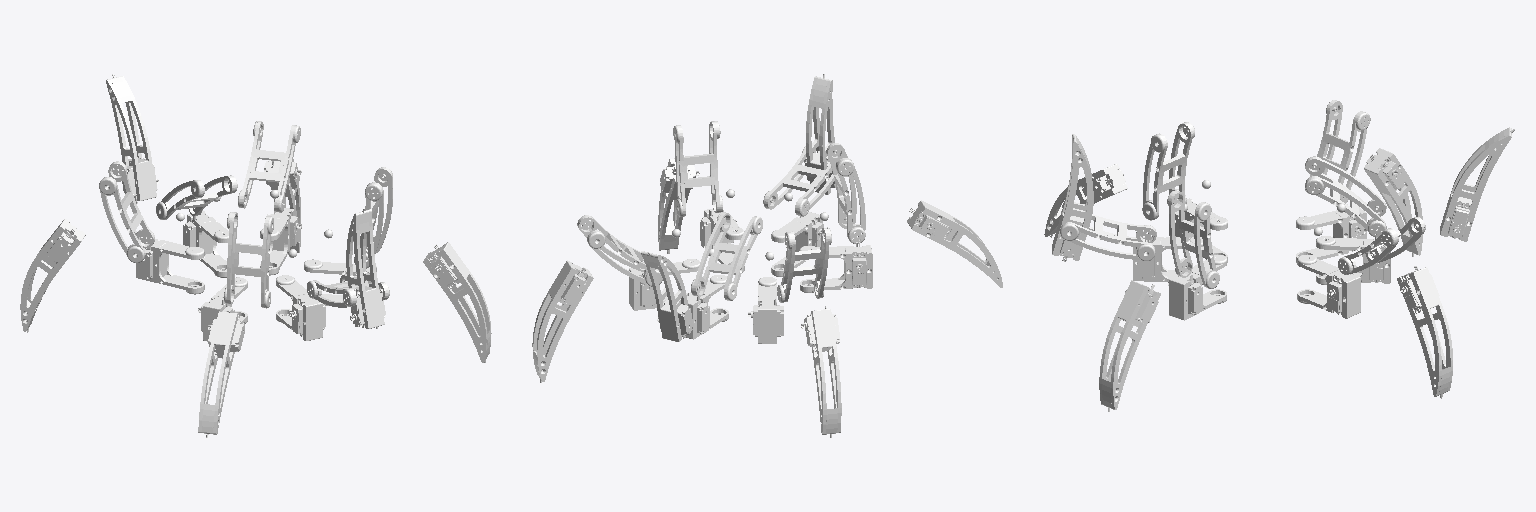
--- What the picture shows (computed from the rendered views, not written in the file) ---
The picture shows the robot from 3 angles, left to right: view 1: azimuth 30°, elevation 25°; view 2: azimuth 150°, elevation 25°; view 3: azimuth 270°, elevation 25°; orthographic projection.
Model Hexapod with 25 links and 24 joints (18 revolute, 6 fixed), rooted at base_link, posed every joint at zero.
Visible links, largest first — view 1: front_right_tibia_link, middle_left_tibia_link, middle_right_tibia_link, rear_right_tibia_link, rear_left_tibia_link, rear_left_femur_link, rear_right_femur_link, front_left_femur_link, rear_left_coxa_link, middle_right_coxa_link, middle_left_coxa_link, middle_left_femur_link (+6 smaller); view 2: front_left_tibia_link, rear_left_tibia_link, rear_right_tibia_link, middle_left_femur_link, middle_left_tibia_link, middle_right_tibia_link, rear_right_femur_link, front_right_femur_link, rear_right_coxa_link, front_left_femur_link, rear_left_femur_link, middle_right_femur_link (+6 smaller); view 3: front_right_tibia_link, front_left_tibia_link, middle_left_tibia_link, front_right_femur_link, rear_left_tibia_link, middle_left_femur_link, rear_right_femur_link, front_left_coxa_link, middle_right_femur_link, middle_right_tibia_link, rear_left_femur_link, front_right_coxa_link (+6 smaller).
Link boxes in pixels (bbox=[...]): front_right_tibia_link: bbox=[423, 242, 491, 362]; middle_left_tibia_link: bbox=[106, 74, 158, 203]; middle_right_tibia_link: bbox=[346, 208, 385, 328]; rear_right_tibia_link: bbox=[198, 311, 244, 437]; rear_left_tibia_link: bbox=[20, 219, 85, 332]; rear_left_femur_link: bbox=[99, 161, 154, 262]; rear_right_femur_link: bbox=[224, 212, 273, 308]; front_left_femur_link: bbox=[238, 121, 300, 212]; rear_left_coxa_link: bbox=[136, 237, 204, 294]; middle_right_coxa_link: bbox=[276, 275, 325, 340]; middle_left_coxa_link: bbox=[183, 211, 228, 277]; middle_left_femur_link: bbox=[156, 175, 237, 219]; front_left_tibia_link: bbox=[532, 260, 593, 382]; rear_left_tibia_link: bbox=[801, 306, 841, 437]; rear_right_tibia_link: bbox=[907, 200, 1002, 287]; middle_left_femur_link: bbox=[691, 212, 762, 300]; middle_left_tibia_link: bbox=[641, 251, 693, 341]; middle_right_tibia_link: bbox=[805, 74, 835, 194]; rear_right_femur_link: bbox=[826, 143, 865, 243]; front_right_femur_link: bbox=[673, 121, 722, 216]; rear_right_coxa_link: bbox=[800, 242, 872, 292]; front_left_femur_link: bbox=[577, 215, 662, 286]; rear_left_femur_link: bbox=[777, 227, 831, 302]; middle_right_femur_link: bbox=[763, 146, 847, 216]; front_right_tibia_link: bbox=[1099, 280, 1160, 411]; front_left_tibia_link: bbox=[1397, 266, 1452, 398]; middle_left_tibia_link: bbox=[1440, 127, 1514, 241]; front_right_femur_link: bbox=[1167, 190, 1219, 288]; rear_left_tibia_link: bbox=[1364, 148, 1422, 256]; middle_left_femur_link: bbox=[1305, 156, 1386, 237]; rear_right_femur_link: bbox=[1142, 122, 1194, 220]; front_left_coxa_link: bbox=[1297, 254, 1360, 318]; middle_right_femur_link: bbox=[1060, 209, 1156, 260]; middle_right_tibia_link: bbox=[1052, 134, 1093, 261]; rear_left_femur_link: bbox=[1305, 100, 1370, 203]; front_right_coxa_link: bbox=[1168, 254, 1226, 320].
Size in the robot's own frame: 0.5301 by 0.6403 by 0.317 metres.
24 mesh visuals loaded from 25 distinct referenced files (24 binary STL); not drawn: 1 (reference not matched to a file when rendering).

URDF robot description (Hexapod):
<?xml version="1.0" encoding="utf-8"?>
<!-- This URDF was automatically created by SolidWorks to URDF Exporter! Originally created by Stephen Brawner ([email redacted]) 
     Commit Version: 1.6.0-4-g7f85cfe  Build Version: 1.6.7995.38578
     For more information, please see http://wiki.ros.org/sw_urdf_exporter -->
<robot
  name="Hexapod">
  <link
    name="base_link">
    <inertial>
      <origin
        xyz="-6.18193581229152E-06 2.39717543056817E-06 0.0161961871063663"
        rpy="0 0 0" />
      <mass
        value="0.786295694888978" />
      <inertia
        ixx="0.00078778573537143"
        ixy="8.85654590300931E-09"
        ixz="2.40443432739839E-08"
        iyy="0.00086497615387617"
        iyz="1.37840846691492E-08"
        izz="0.00156986494830974" />
    </inertial>
    <visual>
      <origin
        xyz="0 0 0"
        rpy="0 0 0" />
      <geometry>
        <mesh
          filename="package://robot_description/meshes/base_link.STL" />
      </geometry>
      <material
        name="">
        <color
          rgba="1 1 1 1" />
      </material>
    </visual>
    <collision>
      <origin
        xyz="0 0 0"
        rpy="0 0 0" />
      <geometry>
        <mesh
          filename="package://robot_description/meshes/base_link.STL" />
      </geometry>
    </collision>
  </link>
  <link
    name="front_left_coxa_link">
    <inertial>
      <origin
        xyz="0.042272 0.041896 0.00059547"
        rpy="0 0 0" />
      <mass
        value="0.086281" />
      <inertia
        ixx="2.3604E-05"
        ixy="-2.2438E-06"
        ixz="-1.3482E-07"
        iyy="2.3608E-05"
        iyz="-9.0884E-08"
        izz="1.6384E-05" />
    </inertial>
    <visual>
      <origin
        xyz="0 0 0"
        rpy="0 0 0" />
      <geometry>
        <mesh
          filename="package://robot_description/meshes/front_left_coxa_link.STL" />
      </geometry>
      <material
        name="">
        <color
          rgba="1 1 1 1" />
      </material>
    </visual>
    <collision>
      <origin
        xyz="0 0 0"
        rpy="0 0 0" />
      <geometry>
        <mesh
          filename="package://robot_description/meshes/front_left_coxa_link.STL" />
      </geometry>
    </collision>
  </link>
  <joint
    name="front_left_coxa_joint"
    type="revolute">
    <origin
      xyz="0.0597794623037307 0.0610074569827942 0.0154258000000004"
      rpy="0 0 0" />
    <parent
      link="base_link" />
    <child
      link="front_left_coxa_link" />
    <axis
      xyz="0.0425207281634428 0.00387756005096805 -0.999088060285229" />
    <limit
      lower="-1.57"
      upper="1.57"
      effort="0"
      velocity="0" />
  </joint>
  <link
    name="front_left_femur_link">
    <inertial>
      <origin
        xyz="0.052841 0.0010893 -0.0016863"
        rpy="0 0 0" />
      <mass
        value="0.0314" />
      <inertia
        ixx="3.499E-06"
        ixy="-2.5485E-09"
        ixz="4.2611E-07"
        iyy="3.7915E-05"
        iyz="4.9086E-08"
        izz="3.7503E-05" />
    </inertial>
    <visual>
      <origin
        xyz="0 0 0"
        rpy="0 0 0" />
      <geometry>
        <mesh
          filename="package://robot_description/meshes/front_left_femur_link.STL" />
      </geometry>
      <material
        name="">
        <color
          rgba="1 1 1 1" />
      </material>
    </visual>
    <collision>
      <origin
        xyz="0 0 0"
        rpy="0 0 0" />
      <geometry>
        <mesh
          filename="package://robot_description/meshes/front_left_femur_link.STL" />
      </geometry>
    </collision>
  </link>
  <joint
    name="front_left_femur_joint"
    type="revolute">
    <origin
      xyz="0.0506354195835637 0.0493770568562628 0.0103729999999975"
      rpy="-0.000104123938980253 0.000104107183134694 0.785317693150283" />
    <parent
      link="front_left_coxa_link" />
    <child
      link="front_left_femur_link" />
    <axis
      xyz="0 1 0" />
    <limit
      lower="-1.57"
      upper="1.57"
      effort="0"
      velocity="0" />
  </joint>
  <link
    name="front_left_tibia_link">
    <inertial>
      <origin
        xyz="-0.036753 0.00043104 0.0037586"
        rpy="0 0 0" />
      <mass
        value="0.095402" />
      <inertia
        ixx="1.6965E-05"
        ixy="2.6445E-08"
        ixz="1.0538E-05"
        iyy="8.8702E-05"
        iyz="-2.2918E-10"
        izz="8.2071E-05" />
    </inertial>
    <visual>
      <origin
        xyz="0 0 0"
        rpy="0 0 0" />
      <geometry>
        <mesh
          filename="package://robot_description/meshes/front_left_tibia_link.STL" />
      </geometry>
      <material
        name="">
        <color
          rgba="1 1 1 1" />
      </material>
    </visual>
    <collision>
      <origin
        xyz="0 0 0"
        rpy="0 0 0" />
      <geometry>
        <mesh
          filename="package://robot_description/meshes/front_left_tibia_link.STL" />
      </geometry>
    </collision>
  </link>
  <joint
    name="front_left_tibia_joint"
    type="revolute">
    <origin
      xyz="0.108492266657861 0 -0.00133055426669743"
      rpy="0.000184555914276492 -0.000184623471871961 0.00026345026142038" />
    <parent
      link="front_left_femur_link" />
    <child
      link="front_left_tibia_link" />
    <axis
      xyz="0 -1 0" />
    <limit
      lower="0"
      upper="3.1415"
      effort="0"
      velocity="0" />
  </joint>
  <link
    name="front_left_foot_link">
    <inertial>
      <origin
        xyz="1.14070369122699E-09 -1.1370719643633E-10 -0.000139135605409638"
        rpy="0 0 0" />
      <mass
        value="0.00102687106652255" />
      <inertia
        ixx="1.66564317116379E-08"
        ixy="6.03331683107328E-15"
        ixz="-5.74075577541418E-15"
        iyy="1.66564916079342E-08"
        iyz="5.72511609703753E-16"
        izz="1.7246104627114E-08" />
    </inertial>
    <visual>
      <origin
        xyz="0 0 0"
        rpy="0 0 0" />
      <geometry>
        <mesh
          filename="package://robot_description/meshes/front_left_foot_link.STL" />
      </geometry>
      <material
        name="">
        <color
          rgba="1 1 1 1" />
      </material>
    </visual>
    <collision>
      <origin
        xyz="0 0 0"
        rpy="0 0 0" />
      <geometry>
        <mesh
          filename="package://robot_description/meshes/front_left_foot_link.STL" />
      </geometry>
    </collision>
  </link>
  <joint
    name="front_left_foot_joint"
    type="fixed">
    <origin
      xyz="-0.157028654923345 -0.000166190898608631 0.0381859537813213"
      rpy="-2.271181641943 -0.422454157208771 -1.23828061902425" />
    <parent
      link="front_left_tibia_link" />
    <child
      link="front_left_foot_link" />
    <axis
      xyz="0 0 0" />
  </joint>
  <link
    name="middle_left_coxa_link">
    <inertial>
      <origin
        xyz="-0.00060292 0.05847 0.00059547"
        rpy="0 0 0" />
      <mass
        value="0.086281" />
      <inertia
        ixx="2.585E-05"
        ixy="-2.0825E-09"
        ixz="-3.1068E-08"
        iyy="2.1362E-05"
        iyz="-1.596E-07"
        izz="1.6384E-05" />
    </inertial>
    <visual>
      <origin
        xyz="0 0 0"
        rpy="0 0 0" />
      <geometry>
        <mesh
          filename="package://robot_description/meshes/middle_left_coxa_link.STL" />
      </geometry>
      <material
        name="">
        <color
          rgba="1 1 1 1" />
      </material>
    </visual>
    <collision>
      <origin
        xyz="0 0 0"
        rpy="0 0 0" />
      <geometry>
        <mesh
          filename="package://robot_description/meshes/middle_left_coxa_link.STL" />
      </geometry>
    </collision>
  </link>
  <joint
    name="middle_left_coxa_joint"
    type="revolute">
    <origin
      xyz="0 0.0864545384187688 0.0154258000000007"
      rpy="0 0 0" />
    <parent
      link="base_link" />
    <child
      link="middle_left_coxa_link" />
    <axis
      xyz="-8.04594058439077E-05 -0.000183005707343813 -0.999999980017597" />
    <limit
      lower="-1.57"
      upper="1.57"
      effort="0"
      velocity="0" />
  </joint>
  <link
    name="middle_left_femur_link">
    <inertial>
      <origin
        xyz="-0.0051763 0.00052888 -0.052845"
        rpy="0 0 0" />
      <mass
        value="0.0314" />
      <inertia
        ixx="3.7498E-05"
        ixy="3.6609E-09"
        ixz="-3.9522E-07"
        iyy="3.7921E-05"
        iyz="-4.3167E-08"
        izz="3.4983E-06" />
    </inertial>
    <visual>
      <origin
        xyz="0 0 0"
        rpy="0 0 0" />
      <geometry>
        <mesh
          filename="package://robot_description/meshes/middle_left_femur_link.STL" />
      </geometry>
      <material
        name="">
        <color
          rgba="1 1 1 1" />
      </material>
    </visual>
    <collision>
      <origin
        xyz="0 0 0"
        rpy="0 0 0" />
      <geometry>
        <mesh
          filename="package://robot_description/meshes/middle_left_femur_link.STL" />
      </geometry>
    </collision>
  </link>
  <joint
    name="middle_left_femur_joint"
    type="revolute">
    <origin
      xyz="2.10046607146265E-05 0.0696742115812287 0.0138198356843305"
      rpy="1.56394087721752 -1.46256545726282 0.00681533790492595" />
    <parent
      link="middle_left_coxa_link" />
    <child
      link="middle_left_femur_link" />
    <axis
      xyz="0 1 0" />
    <limit
      lower="-1.57"
      upper="1.57"
      effort="0"
      velocity="0" />
  </joint>
  <link
    name="middle_left_tibia_link">
    <inertial>
      <origin
        xyz="0.035157 0.00043104 0.011354"
        rpy="0 0 0" />
      <mass
        value="0.095402" />
      <inertia
        ixx="1.9749E-05"
        ixy="-2.4298E-08"
        ixz="-1.6869E-05"
        iyy="8.8702E-05"
        iyz="-1.0435E-08"
        izz="7.9287E-05" />
    </inertial>
    <visual>
      <origin
        xyz="0 0 0"
        rpy="0 0 0" />
      <geometry>
        <mesh
          filename="package://robot_description/meshes/middle_left_tibia_link.STL" />
      </geometry>
      <material
        name="">
        <color
          rgba="1 1 1 1" />
      </material>
    </visual>
    <collision>
      <origin
        xyz="0 0 0"
        rpy="0 0 0" />
      <geometry>
        <mesh
          filename="package://robot_description/meshes/middle_left_tibia_link.STL" />
      </geometry>
    </collision>
  </link>
  <joint
    name="middle_left_tibia_joint"
    type="revolute">
    <origin
      xyz="-0.00465888477440595 -0.000506201381017687 -0.108495899458512"
      rpy="0.000455617198050646 -1.15731885852398 0.107730800271824" />
    <parent
      link="middle_left_femur_link" />
    <child
      link="middle_left_tibia_link" />
    <axis
      xyz="0 -1 0" />
    <limit
      lower="0"
      upper="3.1415"
      effort="0"
      velocity="0" />
  </joint>
  <link
    name="middle_left_foot_link">
    <inertial>
      <origin
        xyz="8.33134791868419E-10 -7.87396869927903E-10 -0.000139135605393956"
        rpy="0 0 0" />
      <mass
        value="0.00102687106652256" />
      <inertia
        ixx="1.66564599387321E-08"
        ixy="3.05013189903406E-14"
        ixz="-4.19279946946903E-15"
        iyy="1.66564633808401E-08"
        iyz="3.9628877150851E-15"
        izz="1.7246104627114E-08" />
    </inertial>
    <visual>
      <origin
        xyz="0 0 0"
        rpy="0 0 0" />
      <geometry>
        <mesh
          filename="package://robot_description/meshes/middle_left_foot_link.STL" />
      </geometry>
      <material
        name="">
        <color
          rgba="1 1 1 1" />
      </material>
    </visual>
    <collision>
      <origin
        xyz="0 0 0"
        rpy="0 0 0" />
      <geometry>
        <mesh
          filename="package://robot_description/meshes/middle_left_foot_link.STL" />
      </geometry>
    </collision>
  </link>
  <joint
    name="middle_left_foot_joint"
    type="fixed">
    <origin
      xyz="0.15911554000758 -0.000166190898614748 0.0282561579362873"
      rpy="1.35669573662495 0 -1.57059641480066" />
    <parent
      link="middle_left_tibia_link" />
    <child
      link="middle_left_foot_link" />
    <axis
      xyz="0 0 0" />
  </joint>
  <link
    name="rear_left_coxa_link">
    <inertial>
      <origin
        xyz="-0.04032 0.043236 0.00059549"
        rpy="0 0 0" />
      <mass
        value="0.086281" />
      <inertia
        ixx="2.3608E-05"
        ixy="2.2438E-06"
        ixz="9.0883E-08"
        iyy="2.3604E-05"
        iyz="-1.3482E-07"
        izz="1.6384E-05" />
    </inertial>
    <visual>
      <origin
        xyz="0 0 0"
        rpy="0 0 0" />
      <geometry>
        <mesh
          filename="package://robot_description/meshes/rear_left_coxa_link.STL" />
      </geometry>
      <material
        name="">
        <color
          rgba="1 1 1 1" />
      </material>
    </visual>
    <collision>
      <origin
        xyz="0 0 0"
        rpy="0 0 0" />
      <geometry>
        <mesh
          filename="package://robot_description/meshes/rear_left_coxa_link.STL" />
      </geometry>
    </collision>
  </link>
  <joint
    name="rear_left_coxa_joint"
    type="revolute">
    <origin
      xyz="-0.0625828215626599 0.0588152120207696 0.0154258000000006"
      rpy="0 0 0" />
    <parent
      link="base_link" />
    <child
      link="rear_left_coxa_link" />
    <axis
      xyz="0 0 1" />
    <limit
      lower="-1.57"
      upper="1.57"
      effort="0"
      velocity="0" />
  </joint>
  <link
    name="rear_left_femur_link">
    <inertial>
      <origin
        xyz="0.053956 0.0016978 -0.0017331"
        rpy="0 0 0" />
      <mass
        value="0.030751" />
      <inertia
        ixx="3.4832E-06"
        ixy="-2.5371E-09"
        ixz="4.332E-07"
        iyy="3.7885E-05"
        iyz="4.9085E-08"
        izz="3.7487E-05" />
    </inertial>
    <visual>
      <origin
        xyz="0 0 0"
        rpy="0 0 0" />
      <geometry>
        <mesh
          filename="package://robot_description/meshes/rear_left_femur_link.STL" />
      </geometry>
      <material
        name="">
        <color
          rgba="1 1 1 1" />
      </material>
    </visual>
    <collision>
      <origin
        xyz="0 0 0"
        rpy="0 0 0" />
      <geometry>
        <mesh
          filename="package://robot_description/meshes/rear_left_femur_link.STL" />
      </geometry>
    </collision>
  </link>
  <joint
    name="rear_left_femur_joint"
    type="revolute">
    <origin
      xyz="-0.0478016922764079 0.0515996698665222 0.0103730000000015"
      rpy="-0.00010412393892102 -0.000104140694076206 2.35611404162862" />
    <parent
      link="rear_left_coxa_link" />
    <child
      link="rear_left_femur_link" />
    <axis
      xyz="0 -1 0" />
    <limit
      lower="-1.57"
      upper="1.57"
      effort="0"
      velocity="0" />
  </joint>
  <link
    name="rear_left_tibia_link">
    <inertial>
      <origin
        xyz="-0.036754 0.00043104 0.0037527"
        rpy="0 0 0" />
      <mass
        value="0.095402" />
      <inertia
        ixx="1.6961E-05"
        ixy="2.6446E-08"
        ixz="1.0527E-05"
        iyy="8.8702E-05"
        iyz="-2.242E-10"
        izz="8.2075E-05" />
    </inertial>
    <visual>
      <origin
        xyz="0 0 0"
        rpy="0 0 0" />
      <geometry>
        <mesh
          filename="package://robot_description/meshes/rear_left_tibia_link.STL" />
      </geometry>
      <material
        name="">
        <color
          rgba="1 1 1 1" />
      </material>
    </visual>
    <collision>
      <origin
        xyz="0 0 0"
        rpy="0 0 0" />
      <geometry>
        <mesh
          filename="package://robot_description/meshes/rear_left_tibia_link.STL" />
      </geometry>
    </collision>
  </link>
  <joint
    name="rear_left_tibia_joint"
    type="revolute">
    <origin
      xyz="0.108491987220254 0 -0.0013531475220351"
      rpy="0.000184610780237547 0.000184543218609282 0.000263479964488295" />
    <parent
      link="rear_left_femur_link" />
    <child
      link="rear_left_tibia_link" />
    <axis
      xyz="0 -1 0" />
    <limit
      lower="0"
      upper="3.1415"
      effort="0"
      velocity="0" />
  </joint>
  <link
    name="rear_left_foot_link">
    <inertial>
      <origin
        xyz="9.79572360726433E-10 -5.95212740206463E-10 -0.000139135605487437"
        rpy="0 0 0" />
      <mass
        value="0.00102687106652255" />
      <inertia
        ixx="1.66564475959389E-08"
        ixy="2.71201159844128E-14"
        ixz="-4.92983811976141E-15"
        iyy="1.66564757236332E-08"
        iyz="2.99678870383865E-15"
        izz="1.7246104627114E-08" />
    </inertial>
    <visual>
      <origin
        xyz="0 0 0"
        rpy="0 0 0" />
      <geometry>
        <mesh
          filename="package://robot_description/meshes/rear_left_foot_link.STL" />
      </geometry>
      <material
        name="">
        <color
          rgba="1 1 1 1" />
      </material>
    </visual>
    <collision>
      <origin
        xyz="0 0 0"
        rpy="0 0 0" />
      <geometry>
        <mesh
          filename="package://robot_description/meshes/rear_left_foot_link.STL" />
      </geometry>
    </collision>
  </link>
  <joint
    name="rear_left_foot_joint"
    type="fixed">
    <origin
      xyz="-0.157034797728908 -0.000166190898612381 0.0381606844208325"
      rpy="-2.1990344128274 -8.04446851697625E-05 -1.57097933897523" />
    <parent
      link="rear_left_tibia_link" />
    <child
      link="rear_left_foot_link" />
    <axis
      xyz="0 0 0" />
  </joint>
  <link
    name="front_right_coxa_link">
    <inertial>
      <origin
        xyz="0.04316 -0.041173 0.00059549"
        rpy="0 0 0" />
      <mass
        value="0.086281" />
      <inertia
        ixx="2.3608E-05"
        ixy="2.2438E-06"
        ixz="-9.0883E-08"
        iyy="2.3604E-05"
        iyz="1.3482E-07"
        izz="1.6384E-05" />
    </inertial>
    <visual>
      <origin
        xyz="0 0 0"
        rpy="0 0 0" />
      <geometry>
        <mesh
          filename="package://robot_description/meshes/front_right_coxa_link.STL" />
      </geometry>
      <material
        name="">
        <color
          rgba="1 1 1 1" />
      </material>
    </visual>
    <collision>
      <origin
        xyz="0 0 0"
        rpy="0 0 0" />
      <geometry>
        <mesh
          filename="package://robot_description/meshes/front_right_coxa_link.STL" />
      </geometry>
    </collision>
  </link>
  <joint
    name="front_right_coxa_joint"
    type="revolute">
    <origin
      xyz="0.0597479377257695 -0.0608728713812492 0.0154258000000012"
      rpy="0 0 0" />
    <parent
      link="base_link" />
    <child
      link="front_right_coxa_link" />
    <axis
      xyz="-0.0437385357924751 0.00789225955945658 0.999011838130949" />
    <limit
      lower="-1.57"
      upper="1.57"
      effort="0"
      velocity="0" />
  </joint>
  <link
    name="front_right_femur_link">
    <inertial>
      <origin
        xyz="0.053956 0.0016978 -0.0017331"
        rpy="0 0 0" />
      <mass
        value="0.030751" />
      <inertia
        ixx="3.4832E-06"
        ixy="-2.5371E-09"
        ixz="4.332E-07"
        iyy="3.7885E-05"
        iyz="4.9085E-08"
        izz="3.7487E-05" />
    </inertial>
    <visual>
      <origin
        xyz="0 0 0"
        rpy="0 0 0" />
      <geometry>
        <mesh
          filename="package://robot_description/meshes/front_right_femur_link.STL" />
      </geometry>
      <material
        name="">
        <color
          rgba="1 1 1 1" />
      </material>
    </visual>
    <collision>
      <origin
        xyz="0 0 0"
        rpy="0 0 0" />
      <geometry>
        <mesh
          filename="package://robot_description/meshes/front_right_femur_link.STL" />
      </geometry>
    </collision>
  </link>
  <joint
    name="front_right_femur_joint"
    type="revolute">
    <origin
      xyz="0.0506416297387538 -0.0495369568805863 0.0103729999999976"
      rpy="-0.000104123938883876 -0.000104140694039058 -0.785478611961186" />
    <parent
      link="front_right_coxa_link" />
    <child
      link="front_right_femur_link" />
    <axis
      xyz="0 -1 0" />
    <limit
      lower="-1.57"
      upper="1.57"
      effort="0"
      velocity="0" />
  </joint>
  <link
    name="front_right_tibia_link">
    <inertial>
      <origin
        xyz="-0.036754 0.00043104 0.0037527"
        rpy="0 0 0" />
      <mass
        value="0.095402" />
      <inertia
        ixx="1.6961E-05"
        ixy="2.6443E-08"
        ixz="1.0527E-05"
        iyy="8.8702E-05"
        iyz="-2.2432E-10"
        izz="8.2075E-05" />
    </inertial>
    <visual>
      <origin
        xyz="0 0 0"
        rpy="0 0 0" />
      <geometry>
        <mesh
          filename="package://robot_description/meshes/front_right_tibia_link.STL" />
      </geometry>
      <material
        name="">
        <color
          rgba="1 1 1 1" />
      </material>
    </visual>
    <collision>
      <origin
        xyz="0 0 0"
        rpy="0 0 0" />
      <geometry>
        <mesh
          filename="package://robot_description/meshes/front_right_tibia_link.STL" />
      </geometry>
    </collision>
  </link>
  <joint
    name="front_right_tibia_joint"
    type="revolute">
    <origin
      xyz="0.10849 0 -0.0013531"
      rpy="0.00018461 0.00018454 0.00026348" />
    <parent
      link="front_right_femur_link" />
    <child
      link="front_right_tibia_link" />
    <axis
      xyz="0 -1 0" />
    <limit
      lower="0"
      upper="3.1415"
      effort="0"
      velocity="0" />
  </joint>
  <link
    name="front_right_foot_link">
    <inertial>
      <origin
        xyz="-4.92431262433257E-10 1.03551793528833E-09 -0.000139135605653394"
        rpy="0 0 0" />
      <mass
        value="0.00102687106652255" />
      <inertia
        ixx="1.6656480938687E-08"
        ixy="2.36984486257665E-14"
        ixz="2.47787044655469E-15"
        iyy="1.66564423808852E-08"
        iyz="-5.21001001947976E-15"
        izz="1.7246104627114E-08" />
    </inertial>
    <visual>
      <origin
        xyz="0 0 0"
        rpy="0 0 0" />
      <geometry>
        <mesh
          filename="package://robot_description/meshes/front_right_foot_link.STL" />
      </geometry>
      <material
        name="">
        <color
          rgba="1 1 1 1" />
      </material>
    </visual>
    <collision>
      <origin
        xyz="0 0 0"
        rpy="0 0 0" />
      <geometry>
        <mesh
          filename="package://robot_description/meshes/front_right_foot_link.STL" />
      </geometry>
    </collision>
  </link>
  <joint
    name="front_right_foot_joint"
    type="fixed">
    <origin
      xyz="-0.157034797728908 -0.000166190898609997 0.0381606844208381"
      rpy="2.27095727607043 -0.422354608328963 1.23800658745024" />
    <parent
      link="front_right_tibia_link" />
    <child
      link="front_right_foot_link" />
    <axis
      xyz="0 0 0" />
    <limit
      lower="0"
      upper="0"
      effort="0"
      velocity="0" />
  </joint>
  <link
    name="middle_right_coxa_link">
    <inertial>
      <origin
        xyz="0.00060348 -0.058469 0.00059547"
        rpy="0 0 0" />
      <mass
        value="0.086281" />
      <inertia
        ixx="2.585E-05"
        ixy="-2.0811E-09"
        ixz="3.1068E-08"
        iyy="2.1362E-05"
        iyz="1.596E-07"
        izz="1.6384E-05" />
    </inertial>
    <visual>
      <origin
        xyz="0 0 0"
        rpy="0 0 0" />
      <geometry>
        <mesh
          filename="package://robot_description/meshes/middle_right_coxa_link.STL" />
      </geometry>
      <material
        name="">
        <color
          rgba="1 1 1 1" />
      </material>
    </visual>
    <collision>
      <origin
        xyz="0 0 0"
        rpy="0 0 0" />
      <geometry>
        <mesh
          filename="package://robot_description/meshes/middle_right_coxa_link.STL" />
      </geometry>
    </collision>
  </link>
  <joint
    name="middle_right_coxa_joint"
    type="revolute">
    <origin
      xyz="0 -0.0864558000013206 0.0154258000001641"
      rpy="0 0 0" />
    <parent
      link="base_link" />
    <child
      link="middle_right_coxa_link" />
    <axis
      xyz="-8.04591239439089E-05 -0.000183005730591605 0.999999980017616" />
    <limit
      lower="-1.57"
      upper="1.57"
      effort="0"
      velocity="0" />
  </joint>
  <link
    name="middle_right_femur_link">
    <inertial>
      <origin
        xyz="0.034359 0.0016978 0.041639"
        rpy="0 0 0" />
      <mass
        value="0.030751" />
      <inertia
        ixx="2.4358E-05"
        ixy="-4.0394E-08"
        ixz="-1.656E-05"
        iyy="3.7885E-05"
        iyz="2.8001E-08"
        izz="1.6612E-05" />
    </inertial>
    <visual>
      <origin
        xyz="0 0 0"
        rpy="0 0 0" />
      <geometry>
        <mesh
          filename="package://robot_description/meshes/middle_right_femur_link.STL" />
      </geometry>
      <material
        name="">
        <color
          rgba="1 1 1 1" />
      </material>
    </visual>
    <collision>
      <origin
        xyz="0 0 0"
        rpy="0 0 0" />
      <geometry>
        <mesh
          filename="package://robot_description/meshes/middle_right_femur_link.STL" />
      </geometry>
    </collision>
  </link>
  <joint
    name="middle_right_femur_joint"
    type="revolute">
    <origin
      xyz="-2.04500179069247E-05 -0.0696729499986796 0.0103729999998343"
      rpy="-0.00017029088670727 0.912907710407541 -1.57101153482602" />
    <parent
      link="middle_right_coxa_link" />
    <child
      link="middle_right_femur_link" />
    <axis
      xyz="0 1 0" />
    <limit
      lower="-1.57"
      upper="1.57"
      effort="0"
      velocity="0" />
  </joint>
  <link
    name="middle_right_tibia_link">
    <inertial>
      <origin
        xyz="0.035157 0.00043104 0.011354"
        rpy="0 0 0" />
      <mass
        value="0.095402" />
      <inertia
        ixx="1.9749E-05"
        ixy="-2.43E-08"
        ixz="-1.6869E-05"
        iyy="8.8702E-05"
        iyz="-1.0435E-08"
        izz="7.9287E-05" />
    </inertial>
    <visual>
      <origin
        xyz="0 0 0"
        rpy="0 0 0" />
      <geometry>
        <mesh
          filename="package://robot_description/meshes/middle_right_tibia_link.STL" />
      </geometry>
      <material
        name="">
        <color
          rgba="1 1 1 1" />
      </material>
    </visual>
    <collision>
      <origin
        xyz="0 0 0"
        rpy="0 0 0" />
      <geometry>
        <mesh
          filename="package://robot_description/meshes/middle_right_tibia_link.STL" />
      </geometry>
    </collision>
  </link>
  <joint
    name="middle_right_tibia_joint"
    type="revolute">
    <origin
      xyz="0.067399025687048 0 0.0850277227476781"
      rpy="-3.14148378102785 0.498689769885715 -3.14123342941393" />
    <parent
      link="middle_right_femur_link" />
    <child
      link="middle_right_tibia_link" />
    <axis
      xyz="0 -1 0" />
    <limit
      lower="0"
      upper="3.1415"
      effort="0"
      velocity="0" />
  </joint>
  <link
    name="middle_right_foot_link">
    <inertial>
      <origin
        xyz="-9.24882211046424E-10 6.77469705334666E-10 -0.000139135605643083"
        rpy="0 0 0" />
      <mass
        value="0.00102687106652256" />
      <inertia
        ixx="1.6656452436194E-08"
        ixy="2.91241795993467E-14"
        ixz="4.65473682962743E-15"
        iyy="1.66564708833781E-08"
        iyz="-3.4084412137988E-15"
        izz="1.7246104627114E-08" />
    </inertial>
    <visual>
      <origin
        xyz="0 0 0"
        rpy="0 0 0" />
      <geometry>
        <mesh
          filename="package://robot_description/meshes/middle_right_foot_link.STL" />
      </geometry>
      <material
        name="">
        <color
          rgba="1 1 1 1" />
      </material>
    </visual>
    <collision>
      <origin
        xyz="0 0 0"
        rpy="0 0 0" />
      <geometry>
        <mesh
          filename="package://robot_description/meshes/middle_right_foot_link.STL" />
      </geometry>
    </collision>
  </link>
  <joint
    name="middle_right_foot_joint"
    type="fixed">
    <origin
      xyz="0.159115539999232 -0.0001661908986167 0.0282561579833033"
      rpy="-1.35669573692048 0 1.57099623878914" />
    <parent
      link="middle_right_tibia_link" />
    <child
      link="middle_right_foot_link" />
    <axis
      xyz="0 0 0" />
  </joint>
  <link
    name="rear_right_coxa_link">
    <inertial>
      <origin
        xyz="-0.041056 -0.04304 0.00059547"
        rpy="0 0 0" />
      <mass
        value="0.086281" />
      <inertia
        ixx="2.3604E-05"
        ixy="-2.2438E-06"
        ixz="1.3482E-07"
        iyy="2.3608E-05"
        iyz="9.0884E-08"
        izz="1.6384E-05" />
    </inertial>
    <visual>
      <origin
        xyz="0 0 0"
        rpy="0 0 0" />
      <geometry>
        <mesh
          filename="package://robot_description/meshes/rear_right_coxa_link.STL" />
      </geometry>
      <material
        name="">
        <color
          rgba="1 1 1 1" />
      </material>
    </visual>
    <collision>
      <origin
        xyz="0 0 0"
        rpy="0 0 0" />
      <geometry>
        <mesh
          filename="package://robot_description/meshes/rear_right_coxa_link.STL" />
      </geometry>
    </collision>
  </link>
  <joint
    name="rear_right_coxa_joint"
    type="revolute">
    <origin
      xyz="-0.0609902962483643 -0.0598679792477214 0.0154257999999996"
      rpy="0 0 0" />
    <parent
      link="base_link" />
    <child
      link="rear_right_coxa_link" />
    <axis
      xyz="-0.00419160564654864 -0.0399618653751459 -0.999192413781171" />
    <limit
      lower="-1.57"
      upper="1.57"
      effort="0"
      velocity="0" />
  </joint>
  <link
    name="rear_right_femur_link">
    <inertial>
      <origin
        xyz="0.053957 0.0016978 -0.0017219"
        rpy="0 0 0" />
      <mass
        value="0.030751" />
      <inertia
        ixx="3.483E-06"
        ixy="-2.5473E-09"
        ixz="4.2611E-07"
        iyy="3.7885E-05"
        iyz="4.9084E-08"
        izz="3.7487E-05" />
    </inertial>
    <visual>
      <origin
        xyz="0 0 0"
        rpy="0 0 0" />
      <geometry>
        <mesh
          filename="package://robot_description/meshes/rear_right_femur_link.STL" />
      </geometry>
      <material
        name="">
        <color
          rgba="1 1 1 1" />
      </material>
    </visual>
    <collision>
      <origin
        xyz="0 0 0"
        rpy="0 0 0" />
      <geometry>
        <mesh
          filename="package://robot_description/meshes/rear_right_femur_link.STL" />
      </geometry>
    </collision>
  </link>
  <joint
    name="rear_right_femur_joint"
    type="revolute">
    <origin
      xyz="-0.049419532013472 -0.0505215882168034 0.0103730000000031"
      rpy="-0.000104123938777913 0.000104107182932361 -2.35627496043963" />
    <parent
      link="rear_right_coxa_link" />
    <child
      link="rear_right_femur_link" />
    <axis
      xyz="0 1 0" />
    <limit
      lower="-1.57"
      upper="1.57"
      effort="0"
      velocity="0" />
  </joint>
  <link
    name="rear_right_tibia_link">
    <inertial>
      <origin
        xyz="-0.036753 0.00043104 0.0037586"
        rpy="0 0 0" />
      <mass
        value="0.095402" />
      <inertia
        ixx="1.6965E-05"
        ixy="2.6445E-08"
        ixz="1.0538E-05"
        iyy="8.8702E-05"
        iyz="-2.2924E-10"
        izz="8.2071E-05" />
    </inertial>
    <visual>
      <origin
        xyz="0 0 0"
        rpy="0 0 0" />
      <geometry>
        <mesh
          filename="package://robot_description/meshes/rear_right_tibia_link.STL" />
      </geometry>
      <material
        name="">
        <color
          rgba="1 1 1 1" />
      </material>
    </visual>
    <collision>
      <origin
        xyz="0 0 0"
        rpy="0 0 0" />
      <geometry>
        <mesh
          filename="package://robot_description/meshes/rear_right_tibia_link.STL" />
      </geometry>
    </collision>
  </link>
  <joint
    name="rear_right_tibia_joint"
    type="revolute">
    <origin
      xyz="0.10849 0 -0.0013306"
      rpy="0.00018456 -0.00018462 0.00026345" />
    <parent
      link="rear_right_femur_link" />
    <child
      link="rear_right_tibia_link" />
    <axis
      xyz="0 -1 0" />
    <limit
      lower="0"
      upper="3.1415"
      effort="0"
      velocity="0" />
  </joint>
  <link
    name="rear_right_foot_link">
    <inertial>
      <origin
        xyz="-1.1436E-09 7.9452E-11 -0.00013914"
        rpy="0 0 0" />
      <mass
        value="0.0010269" />
      <inertia
        ixx="1.6656E-08"
        ixy="4.2207E-15"
        ixz="5.7554E-15"
        iyy="1.6656E-08"
        iyz="-3.9949E-16"
        izz="1.7246E-08" />
    </inertial>
    <visual>
      <origin
        xyz="0 0 0"
        rpy="0 0 0" />
      <geometry>
        <mesh
          filename="package://robot_description/meshes/rear_right_foot_link.STL" />
      </geometry>
      <material
        name="">
        <color
          rgba="1 1 1 1" />
      </material>
    </visual>
    <collision>
      <origin
        xyz="0 0 0"
        rpy="0 0 0" />
      <geometry>
        <mesh
          filename="package://robot_description/meshes/rear_right_foot_link.STL" />
      </geometry>
    </collision>
  </link>
  <joint
    name="rear_right_foot_joint"
    type="fixed">
    <origin
      xyz="-0.157028654923349 -0.000166190898619894 0.0381859537813168"
      rpy="2.27118164194299 0.422454157208764 1.9033120345656" />
    <parent
      link="rear_right_tibia_link" />
    <child
      link="rear_right_foot_link" />
    <axis
      xyz="0 0 0" />
  </joint>
</robot>
